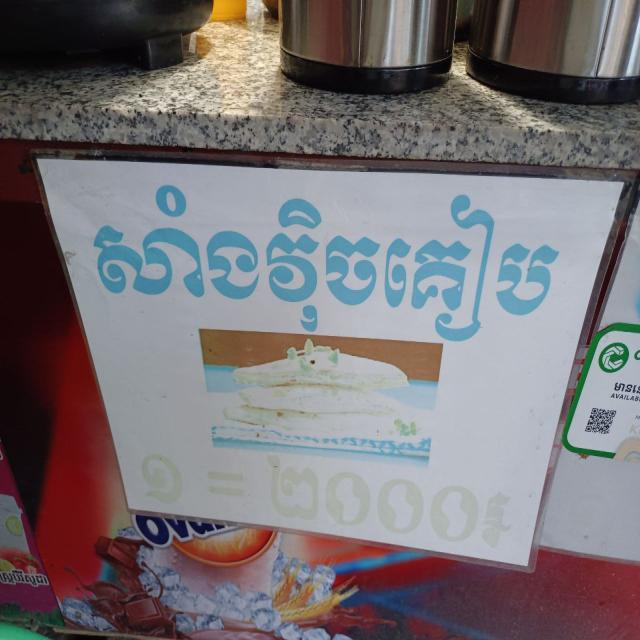Yolov11_80vkh: (64, 162, 575, 362)
